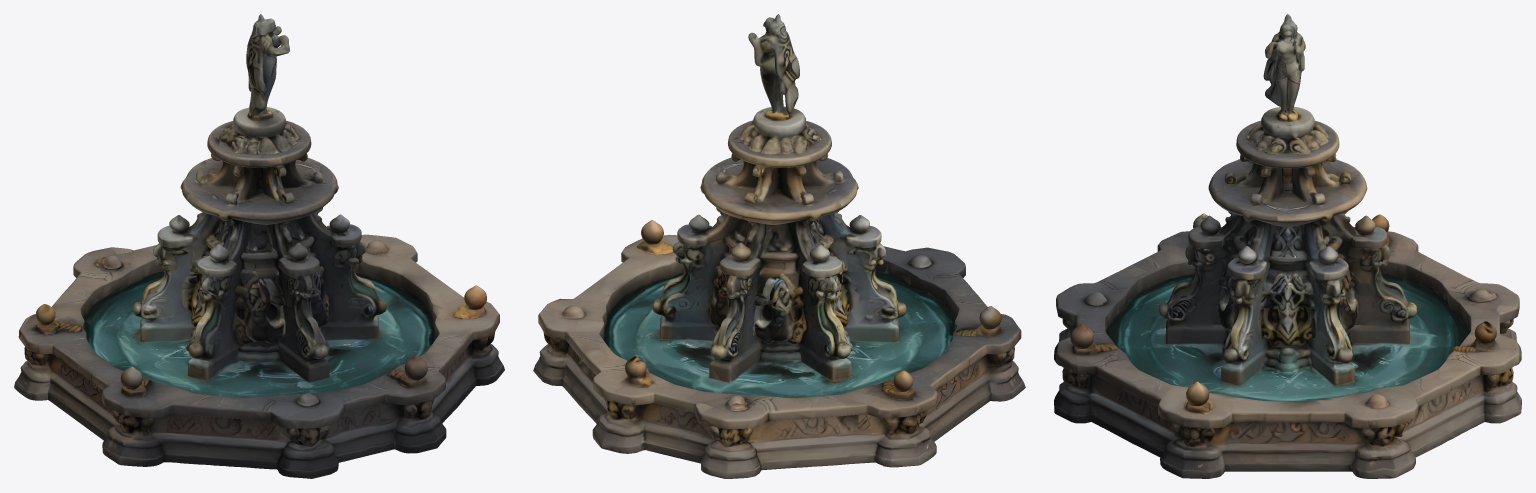
The model's file is city-fountain-grand.glb.
3 renders of one model, left to right at view 1: azimuth 30°, elevation 25°; view 2: azimuth 150°, elevation 25°; view 3: azimuth 270°, elevation 25°, orthographic.
Visible parts, largest first — view 1: tripo_node_ee2d43c6-3f81-449d-a2c1-ae7a756ad0a9; view 2: tripo_node_ee2d43c6-3f81-449d-a2c1-ae7a756ad0a9; view 3: tripo_node_ee2d43c6-3f81-449d-a2c1-ae7a756ad0a9.
Boxes of the visible parts, <box> form: tripo_node_ee2d43c6-3f81-449d-a2c1-ae7a756ad0a9: <box>14,14,504,478</box>; tripo_node_ee2d43c6-3f81-449d-a2c1-ae7a756ad0a9: <box>533,14,1025,478</box>; tripo_node_ee2d43c6-3f81-449d-a2c1-ae7a756ad0a9: <box>1054,14,1521,478</box>.
Bounding box in the file's own units: 6.01 × 6 × 6.17.
Materials: 1 (1 with a texture image).
